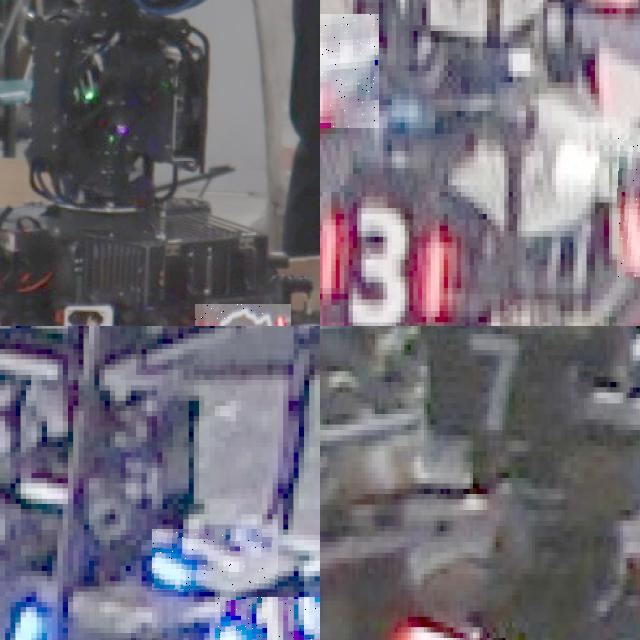B1: (152, 530, 278, 592), (215, 596, 320, 640), (0, 571, 36, 640)
R3: (320, 202, 456, 326), (320, 13, 379, 128), (616, 128, 640, 276)
Rs: (195, 304, 291, 326)
